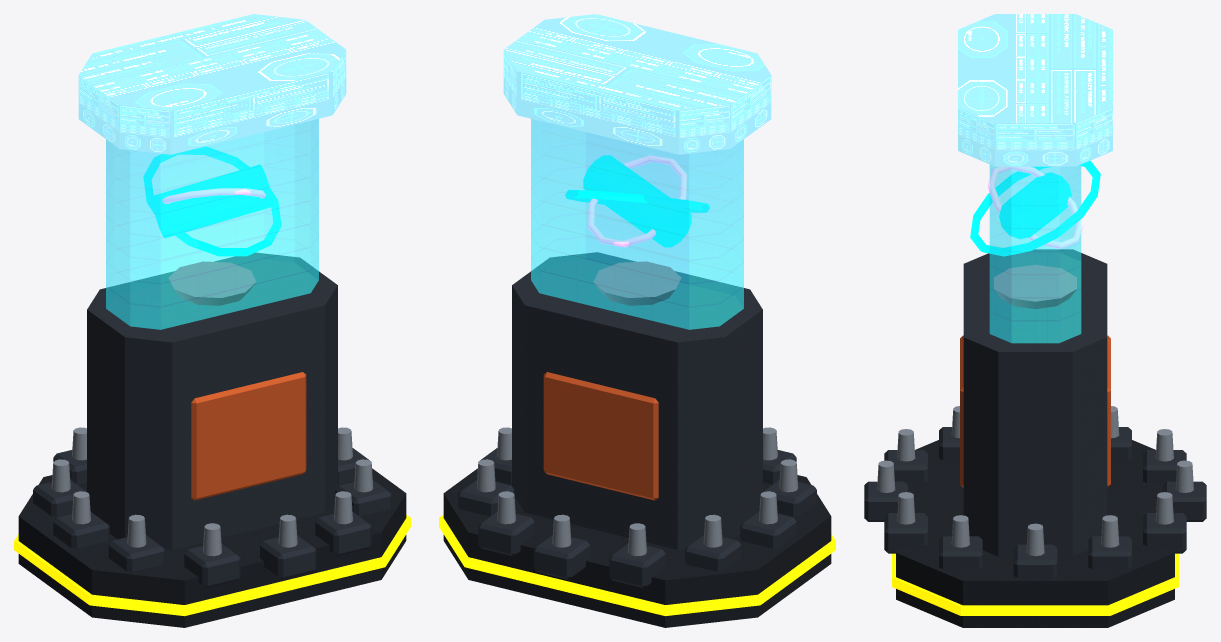
File: prop_02_r1_01.glb
3 renders of one model, left to right at view 1: azimuth 30°, elevation 25°; view 2: azimuth 150°, elevation 25°; view 3: azimuth 270°, elevation 25°, orthographic.
Parts seen in each view (by area): view 1: Prop02_C01_carbon_slate, Prop02_C01_glass_cyan, Prop02_C01_marquee, Prop02_C01_gunmetal, Prop02_C01_accent_orange, Prop02_C01_steel_machined, Prop02_C01_led_cyan, Prop02_C01_led_amber, Prop02_C01_led_uv; view 2: Prop02_C01_carbon_slate, Prop02_C01_glass_cyan, Prop02_C01_marquee, Prop02_C01_gunmetal, Prop02_C01_accent_orange, Prop02_C01_steel_machined, Prop02_C01_led_cyan, Prop02_C01_led_amber, Prop02_C01_led_uv; view 3: Prop02_C01_carbon_slate, Prop02_C01_marquee, Prop02_C01_gunmetal, Prop02_C01_glass_cyan, Prop02_C01_steel_machined, Prop02_C01_led_cyan, Prop02_C01_led_amber, Prop02_C01_accent_orange, Prop02_C01_led_uv.
Part boxes in pixels (x1=…): Prop02_C01_carbon_slate: x1=33, y1=253, x2=391, y2=587; Prop02_C01_glass_cyan: x1=106, y1=119, x2=318, y2=329; Prop02_C01_marquee: x1=78, y1=14, x2=346, y2=154; Prop02_C01_gunmetal: x1=18, y1=468, x2=406, y2=627; Prop02_C01_accent_orange: x1=191, y1=372, x2=306, y2=500; Prop02_C01_steel_machined: x1=51, y1=261, x2=373, y2=556; Prop02_C01_led_cyan: x1=143, y1=147, x2=281, y2=256; Prop02_C01_led_amber: x1=14, y1=515, x2=410, y2=616; Prop02_C01_led_uv: x1=162, y1=188, x2=265, y2=203; Prop02_C01_carbon_slate: x1=458, y1=252, x2=816, y2=587; Prop02_C01_glass_cyan: x1=531, y1=119, x2=743, y2=329; Prop02_C01_marquee: x1=503, y1=14, x2=771, y2=154; Prop02_C01_gunmetal: x1=443, y1=468, x2=831, y2=627; Prop02_C01_accent_orange: x1=543, y1=372, x2=658, y2=500; Prop02_C01_steel_machined: x1=476, y1=261, x2=798, y2=556; Prop02_C01_led_cyan: x1=565, y1=155, x2=709, y2=247; Prop02_C01_led_amber: x1=439, y1=515, x2=835, y2=616; Prop02_C01_led_uv: x1=588, y1=155, x2=686, y2=247; Prop02_C01_carbon_slate: x1=864, y1=249, x2=1206, y2=577; Prop02_C01_marquee: x1=958, y1=14, x2=1112, y2=166; Prop02_C01_gunmetal: x1=896, y1=440, x2=1174, y2=627; Prop02_C01_glass_cyan: x1=989, y1=165, x2=1081, y2=343; Prop02_C01_steel_machined: x1=877, y1=264, x2=1193, y2=556; Prop02_C01_led_cyan: x1=970, y1=160, x2=1100, y2=256; Prop02_C01_led_amber: x1=892, y1=553, x2=1178, y2=615; Prop02_C01_accent_orange: x1=960, y1=335, x2=1110, y2=487; Prop02_C01_led_uv: x1=987, y1=166, x2=1083, y2=249.
Size of the model in its own units: 1.84 by 2.68 by 1.72.
Materials: 9 (9 with a texture image).
